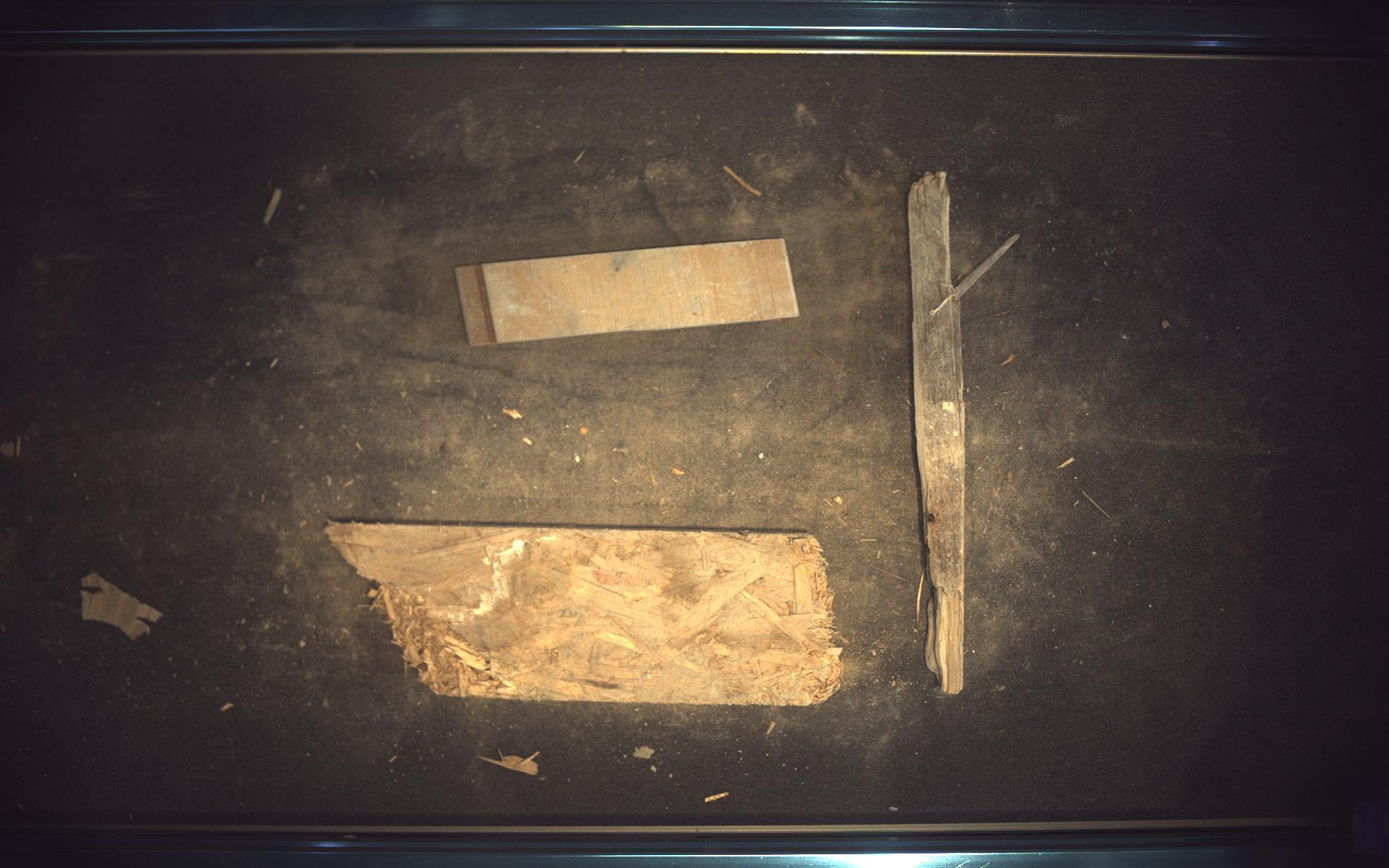wood: (326, 523, 844, 707), (910, 170, 1021, 695), (455, 238, 800, 345)
